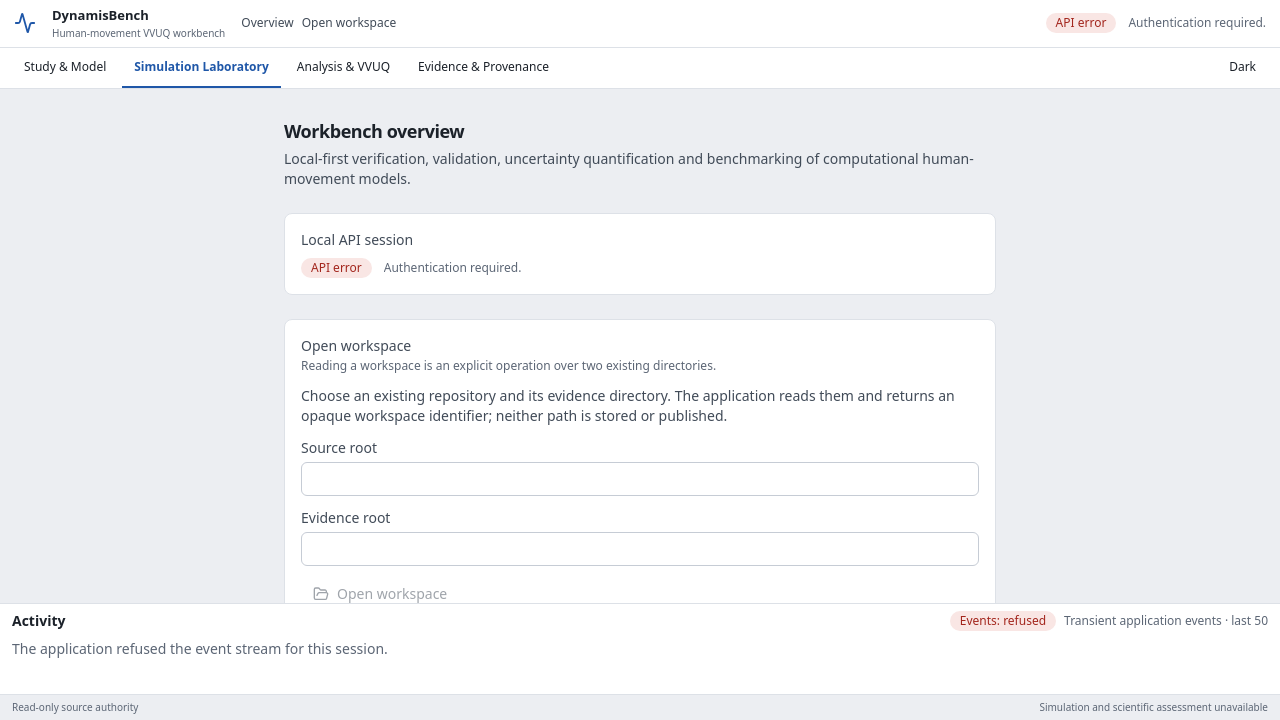
Test: the open-workspace flow › reports a bounded refusal without echoing the roots
The image size is (1280, 720).
Type "C:\\private\\this-root-must-not-be-echoed" into the field labelled "Source root" at (640, 478), box [301, 462, 979, 496]
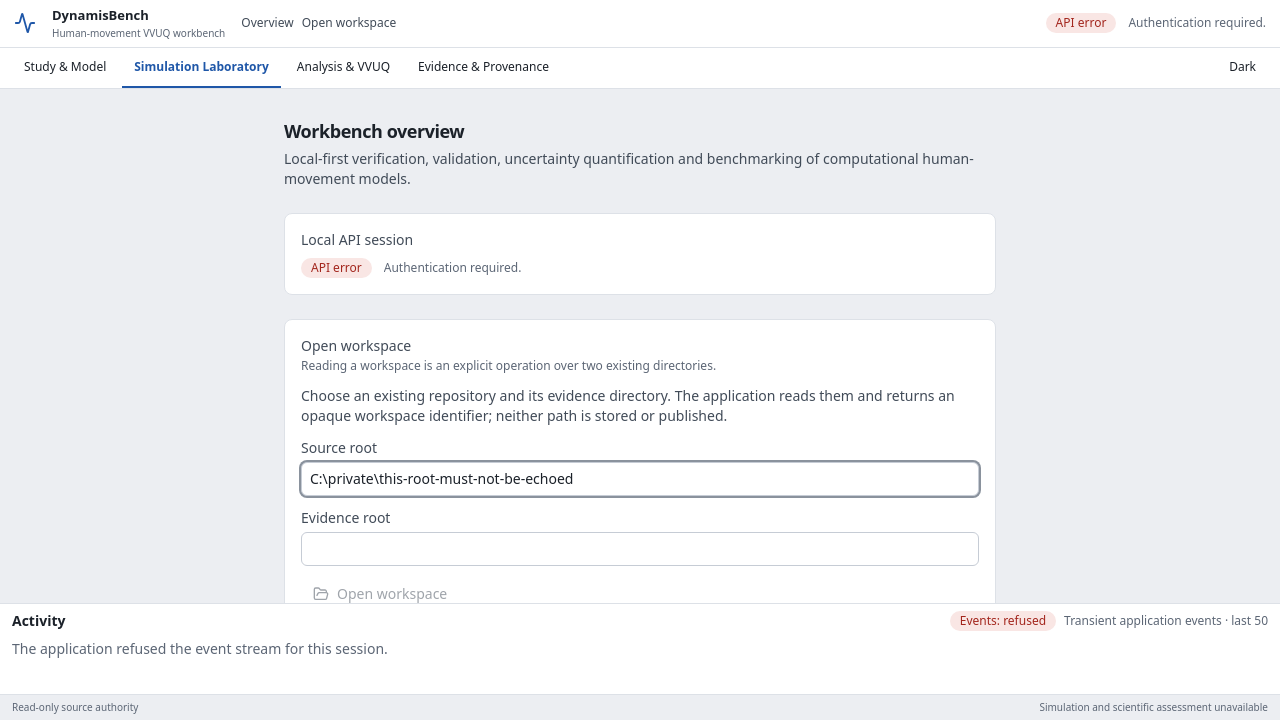
Type "C:\\private\\evidence" into the field labelled "Evidence root" at (640, 548), box [301, 532, 979, 566]
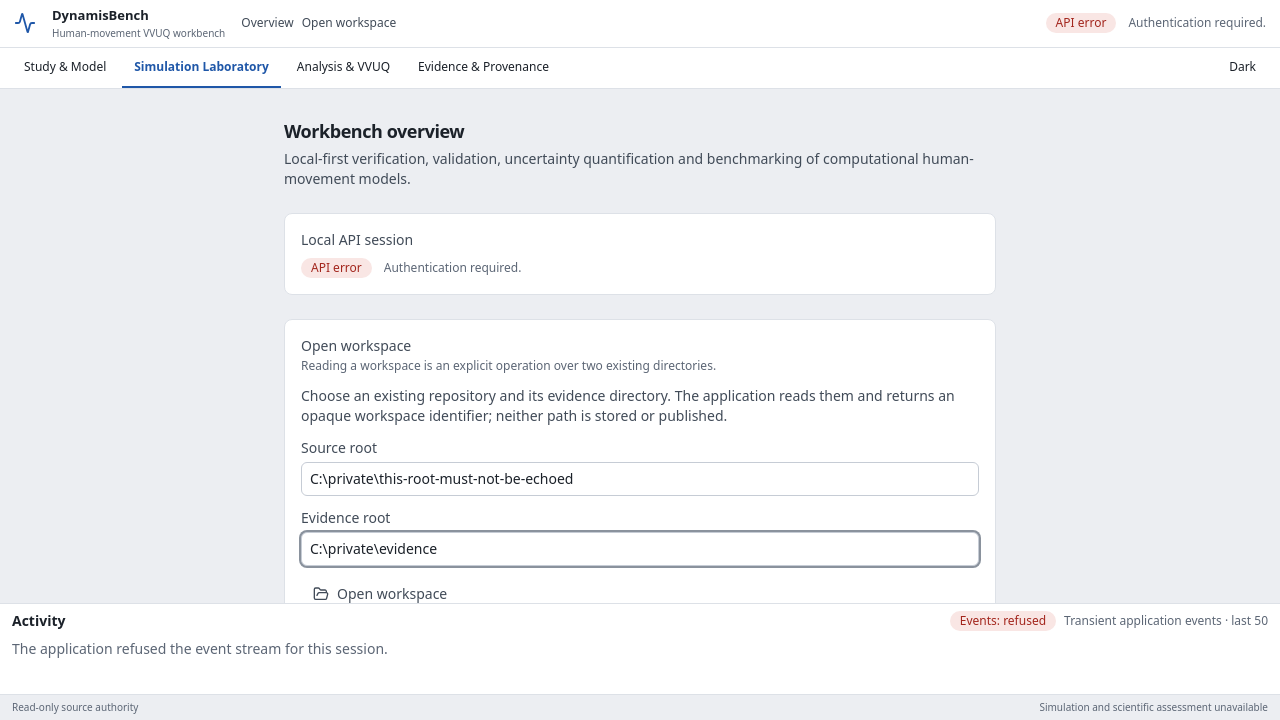
Click the button "Open workspace" at (380, 594), box [301, 578, 459, 610]
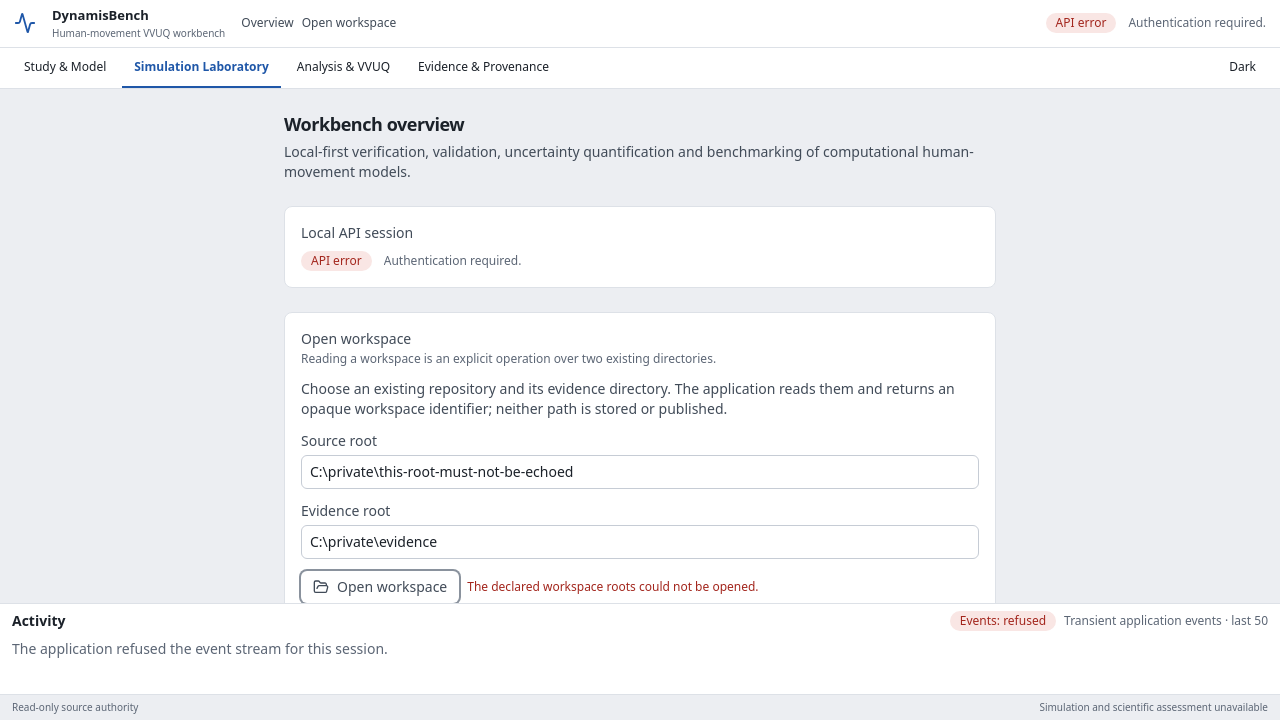
Expected: the message does not show "C:\\private\\this-root-must-not-be-echoed", [467, 578, 759, 594]
Expected: the message reads "The declared workspace roots could not be opened.", [467, 578, 759, 594]
